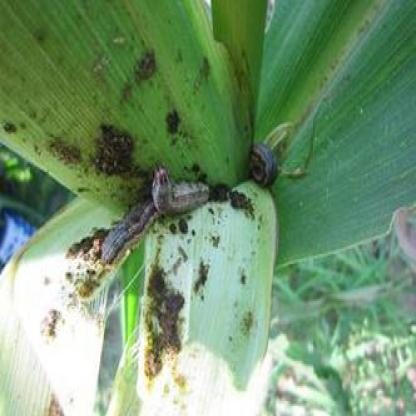armyworm: (96, 190, 160, 276), (146, 158, 212, 223), (244, 135, 277, 195)
